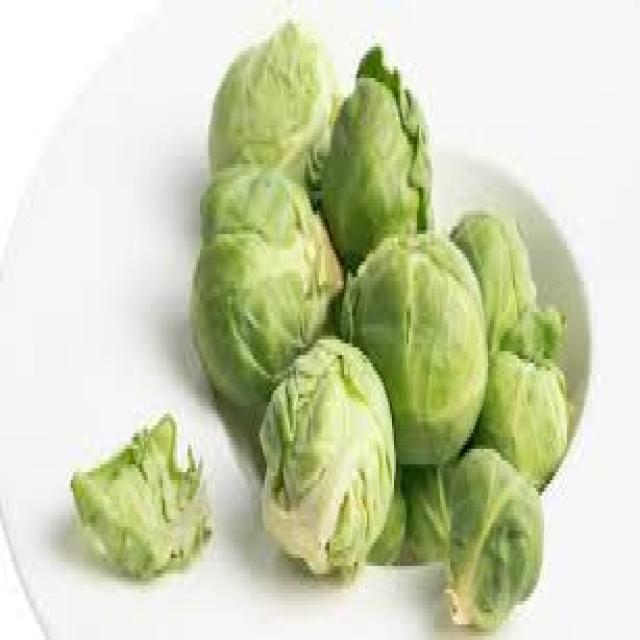choux de bruxelles: (262, 294, 420, 602), (64, 373, 228, 634), (346, 202, 498, 432), (461, 214, 581, 489), (180, 141, 316, 378), (316, 56, 434, 303), (446, 406, 544, 640), (216, 22, 341, 194)
